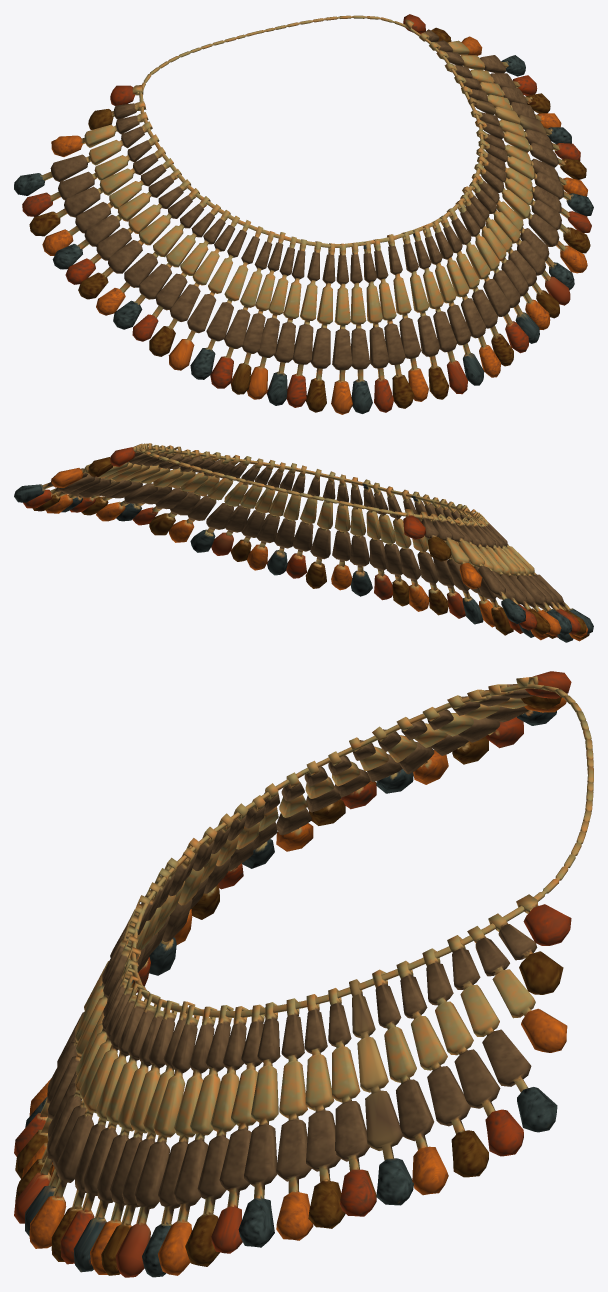
File: necklace_04.glb
3 views of the same model, one above another, from view 1: azimuth 30°, elevation 25°; view 2: azimuth 150°, elevation 25°; view 3: azimuth 270°, elevation 25° (orthographic). The views are drawn at different scales.
Parts seen in each view (by area): view 1: Object_2; view 2: Object_2; view 3: Object_2.
Boxes of the visible parts, box(x1,y1,x2,y2) form: Object_2: box(14, 14, 593, 414); Object_2: box(14, 443, 593, 642); Object_2: box(14, 671, 593, 1277).
Size of the model in its own units: 310 by 142 by 178.
1 material, 1 textured.
